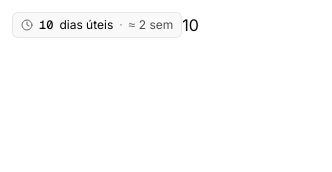
Test case: PrazoExecucaoChip › salva ao perder o foco (blur)
Click the button at (97, 25), box x1=12 y1=12 x2=182 y2=38
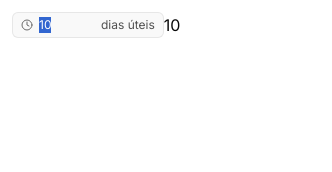
Replace the text in the number field named "Dias úteis de execução da obra" with "20" at (67, 25), box x1=39 y1=17 x2=95 y2=33
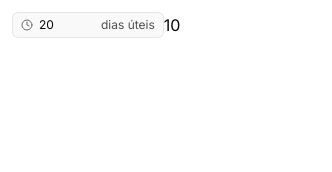
Leave the number field named "Dias úteis de execução da obra", box x1=39 y1=17 x2=95 y2=33
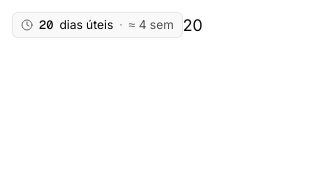
Expected: the text with test id "value" reads "20", x1=183 y1=15 x2=203 y2=35
